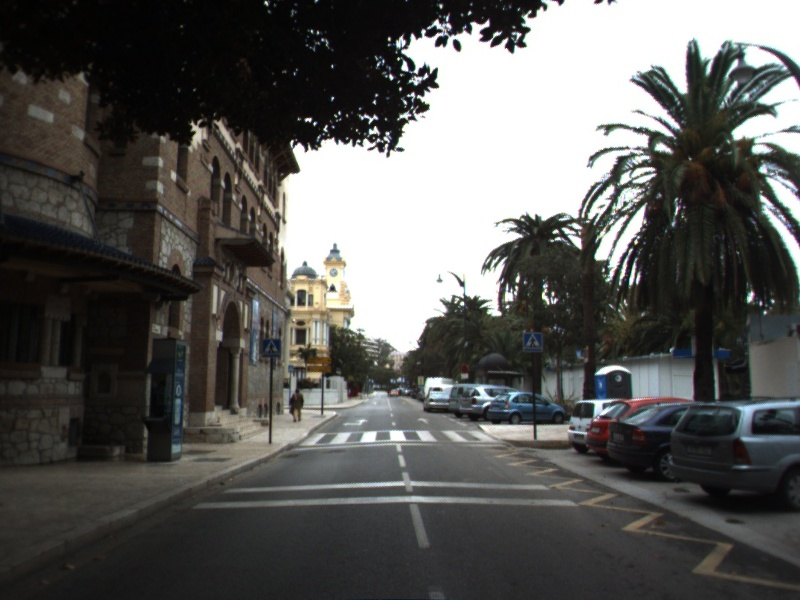STRAIGHT: (416, 415, 431, 426)
STRAIGHT_LEFT: (340, 417, 370, 428)
